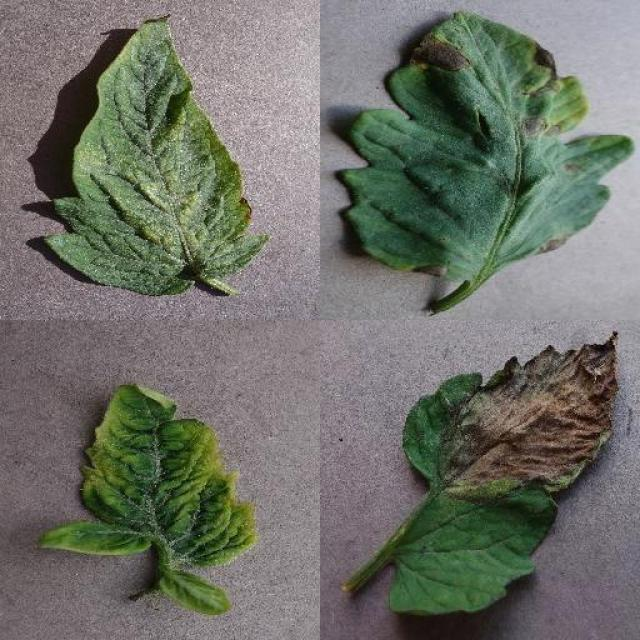Early Blight: (338, 12, 632, 276)
Late Blight: (390, 330, 622, 618)
